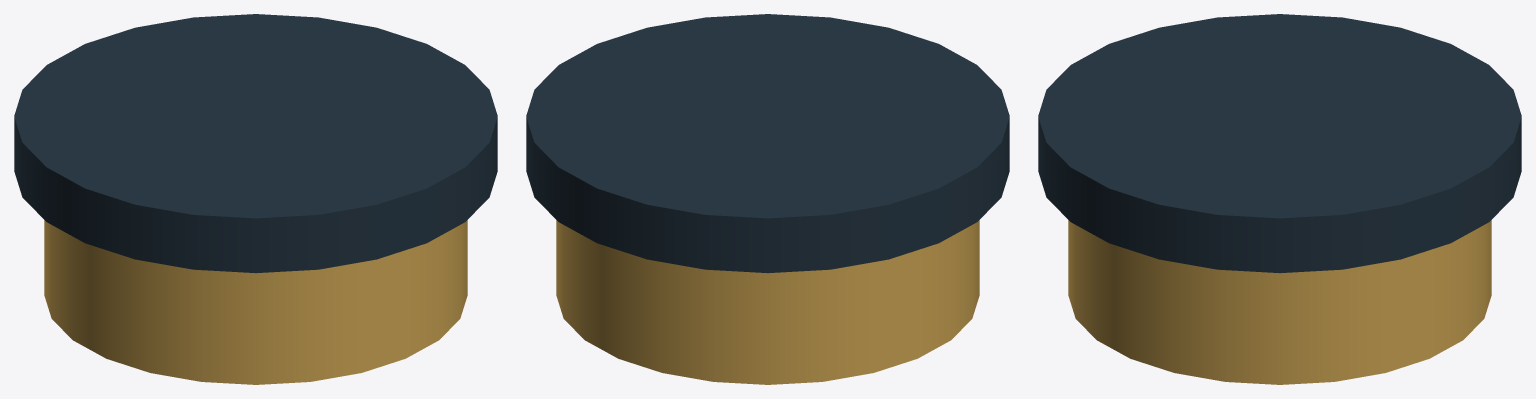
Rendered from paper.glb.
The picture shows the model from 3 angles, left to right: view 1: azimuth 30°, elevation 25°; view 2: azimuth 150°, elevation 25°; view 3: azimuth 270°, elevation 25°; orthographic projection.
Visible parts, largest first — view 1: DoseLid, MeteredAdhesive; view 2: DoseLid, MeteredAdhesive; view 3: DoseLid, MeteredAdhesive.
Boxes of the visible parts, x1,y1,x2,y2 form: DoseLid: (14, 14, 497, 273); MeteredAdhesive: (44, 220, 467, 384); DoseLid: (526, 14, 1009, 273); MeteredAdhesive: (556, 220, 979, 384); DoseLid: (1038, 14, 1521, 273); MeteredAdhesive: (1068, 220, 1491, 384).
Bounding box in the file's own units: 0.016 × 0.00655 × 0.016.
